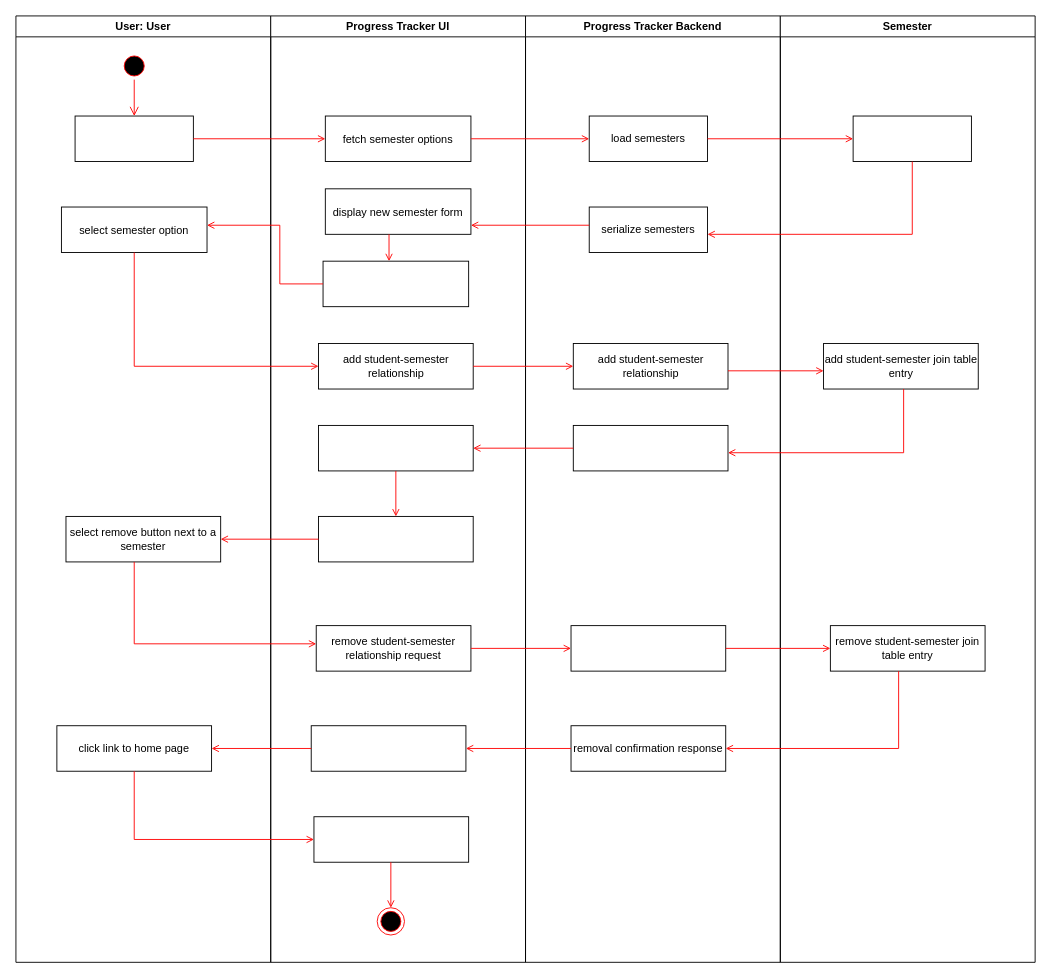
The diagram is 1051 pixels wide and 978 high, and some of its shapes have lost their labels. Each missing label, with the centre of its shape:
click add semesters link: point (133, 138)
confirmation: point (650, 448)
get semesters: point (911, 138)
hide new semester form: point (395, 448)
redirect to home page: point (391, 839)
remove student-semester relationship: point (648, 648)
render semester options: point (395, 283)
update semester list to remove semester from list: point (388, 748)
update semester list with new semester: point (395, 539)
